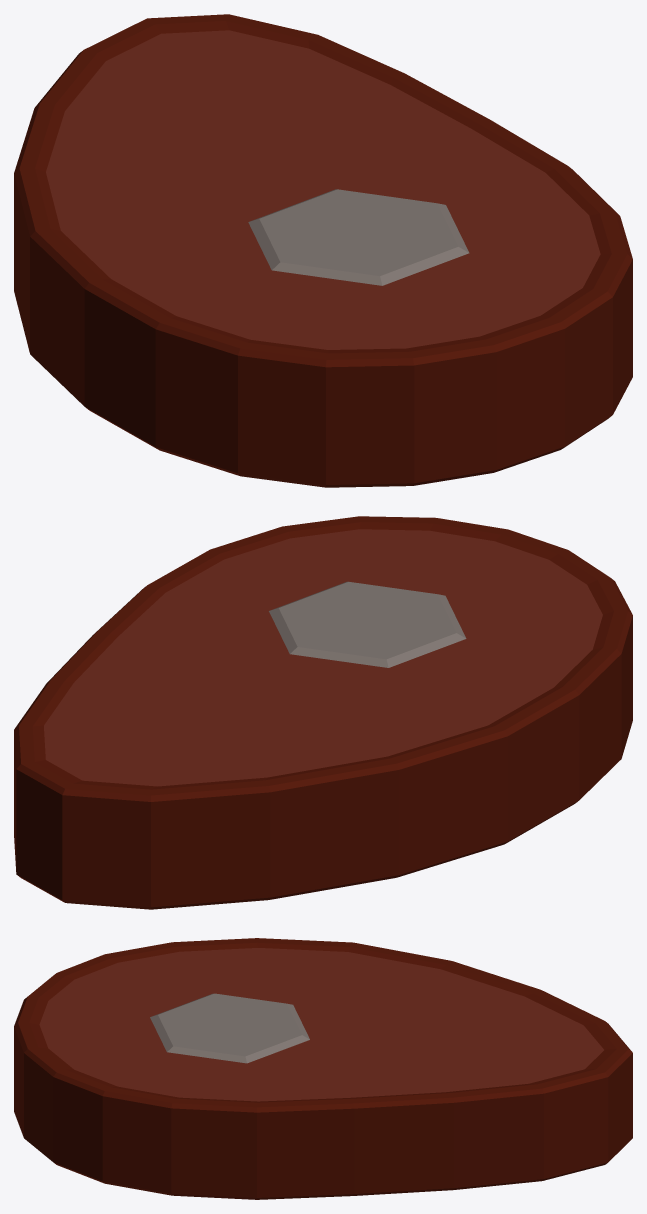
The model's file is Steak.fbx_Cooked_Steak.fbx.
3 views of the same model, one above another, from view 1: azimuth 30°, elevation 25°; view 2: azimuth 150°, elevation 25°; view 3: azimuth 270°, elevation 25° (orthographic). The views are drawn at different scales.
Visible parts, largest first — view 1: Cooked Steak; view 2: Cooked Steak; view 3: Cooked Steak.
Part boxes in pixels (x1,y1,x2,y2): Cooked Steak: (14,14,632,487); Cooked Steak: (14,516,632,909); Cooked Steak: (14,938,632,1199).
Size of the model in its own units: 200 by 303 by 51.93.
